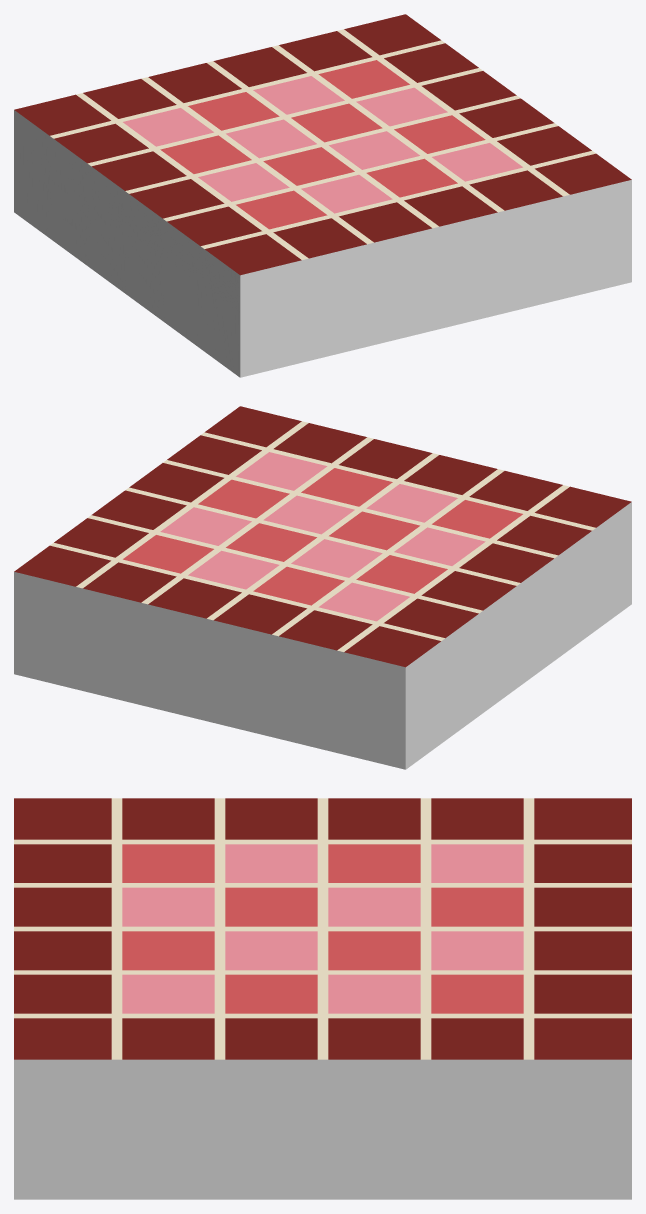
The model's file is Prop_GroundBase_03.fbx.
3 renders of one model, top to bottom at view 1: azimuth 30°, elevation 25°; view 2: azimuth 150°, elevation 25°; view 3: azimuth 270°, elevation 25°, orthographic. The views are drawn at different scales.
Visible parts, largest first — view 1: Prop_GroundBase_03; view 2: Prop_GroundBase_03; view 3: Prop_GroundBase_03.
Part boxes in pixels (bbox=[...]): Prop_GroundBase_03: bbox=[14, 14, 631, 377]; Prop_GroundBase_03: bbox=[14, 406, 631, 769]; Prop_GroundBase_03: bbox=[14, 798, 631, 1199].
Size of the model in its own units: 200 by 50 by 200.
